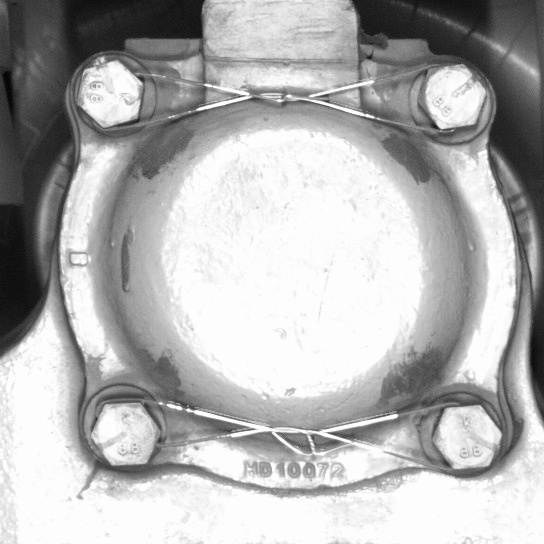IronWire: (76, 379, 519, 485), (64, 42, 495, 149)
Screw: (76, 382, 169, 476), (406, 50, 493, 149), (424, 388, 513, 483), (67, 46, 155, 137)
